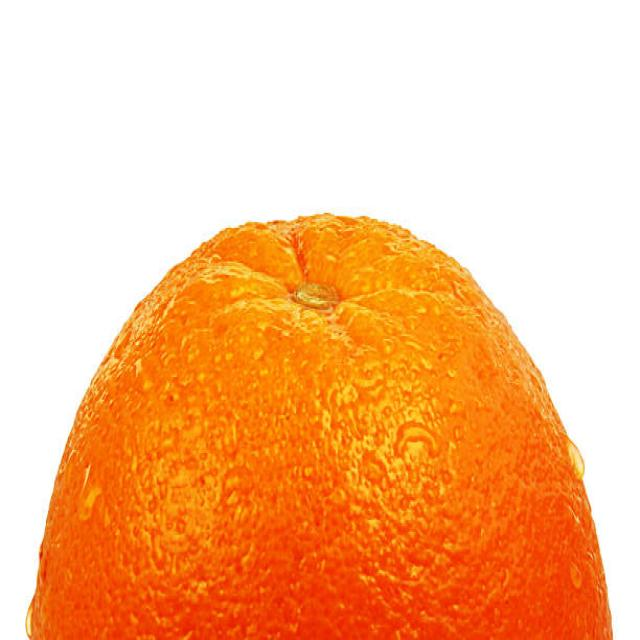Ripe: (22, 209, 617, 640)
